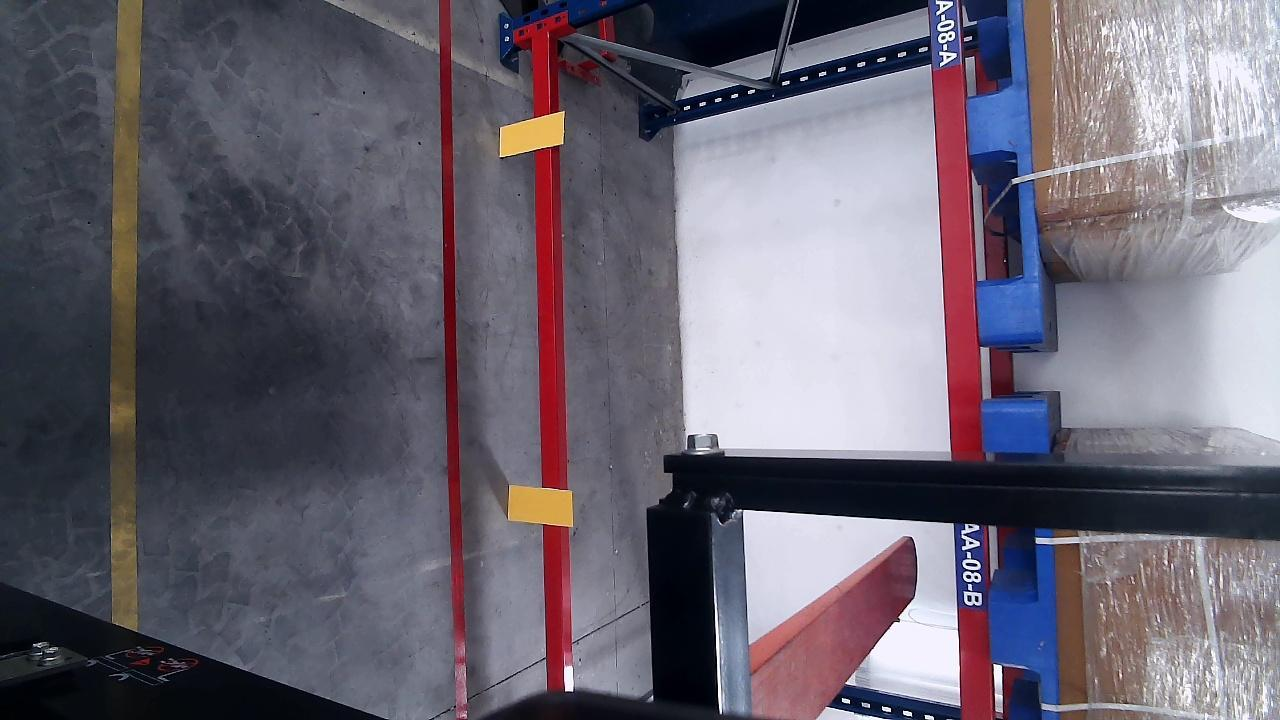h_rack: (526, 32, 572, 691)
orange_strip: (499, 112, 562, 156), (509, 483, 573, 526)
red_line: (439, 0, 469, 718)
small_pallet: (958, 2, 1044, 334), (981, 401, 1066, 717)
yellow_line: (111, 0, 142, 629)
